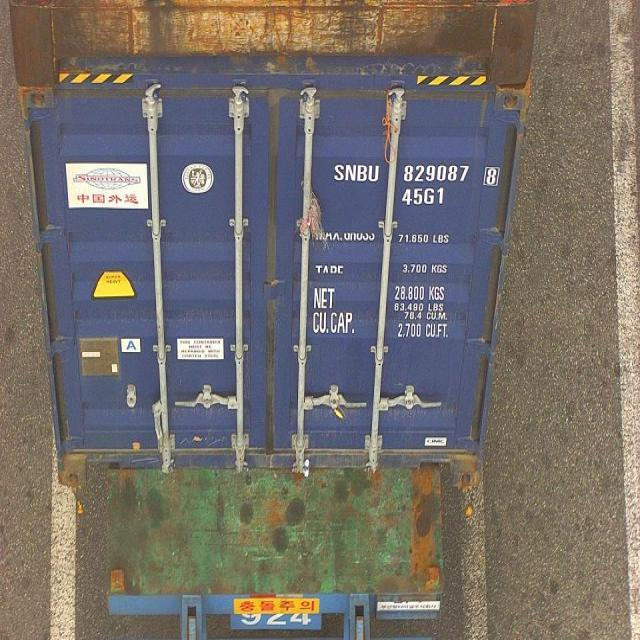ISO: (401, 188, 446, 206)
container_number: (338, 162, 493, 187)
